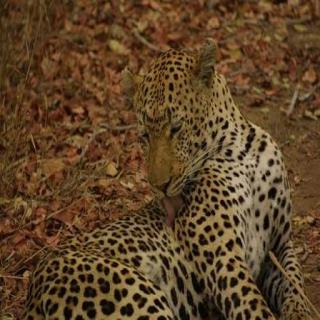Leopard: (42, 32, 316, 297)
